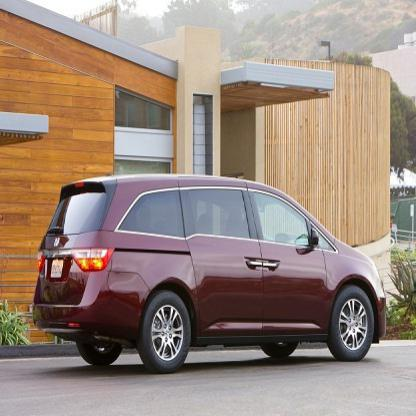Vehicle: (34, 173, 386, 376)
